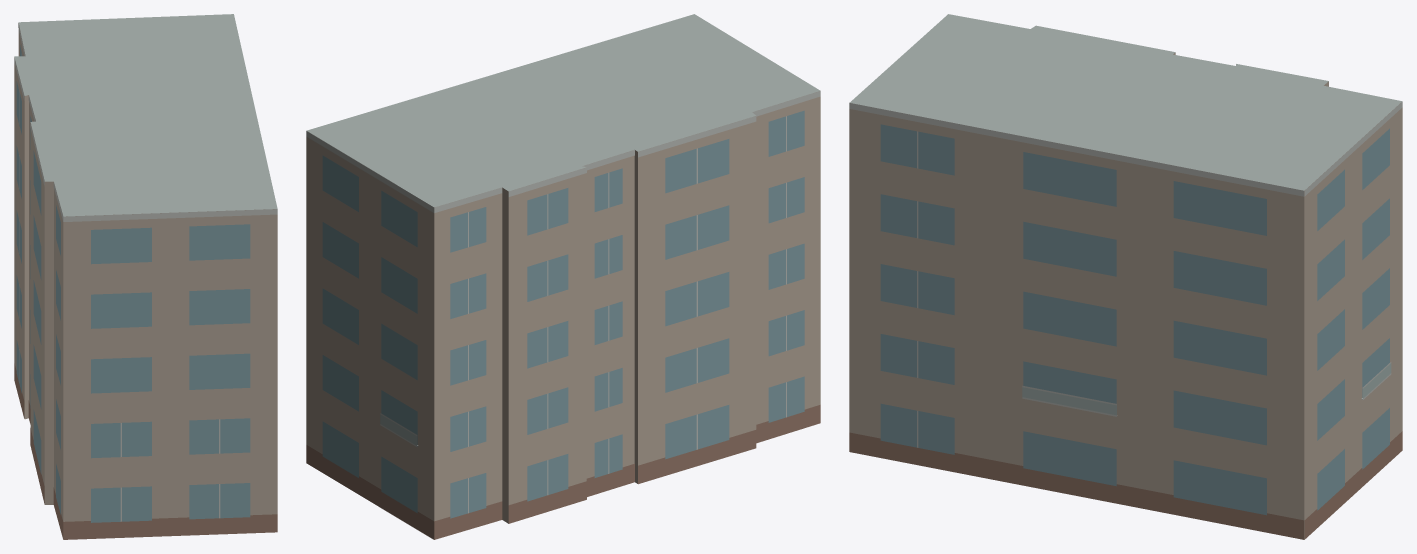
The model's file is survey-upis-32531003.glb.
The picture shows the model from 3 angles, left to right: view 1: azimuth 30°, elevation 25°; view 2: azimuth 150°, elevation 25°; view 3: azimuth 270°, elevation 25°; orthographic projection. The views are drawn at different scales.
Parts seen in each view (by area): view 1: survey-upis-32531003.tmp; view 2: survey-upis-32531003.tmp; view 3: survey-upis-32531003.tmp.
Boxes of the visible parts, box(x1,y1,x2,y2) form: survey-upis-32531003.tmp: box(14, 14, 277, 539); survey-upis-32531003.tmp: box(306, 14, 820, 539); survey-upis-32531003.tmp: box(849, 14, 1402, 539).
Size of the model in its own units: 15.32 by 14.1 by 20.25.
